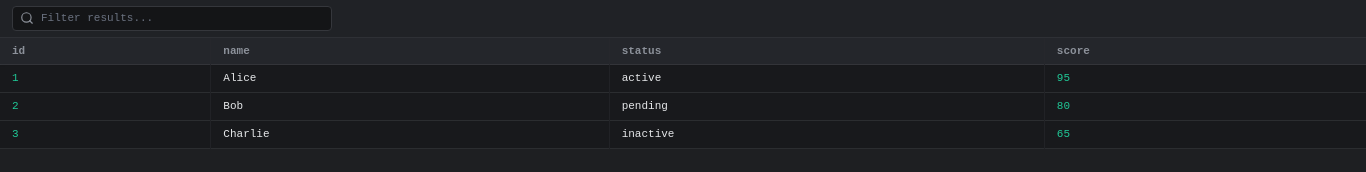
EditableDataGrid component › activates inline input on double click and cancels on Escape
Double-click the text "Alice" at (410, 79), box [211,65,609,93]
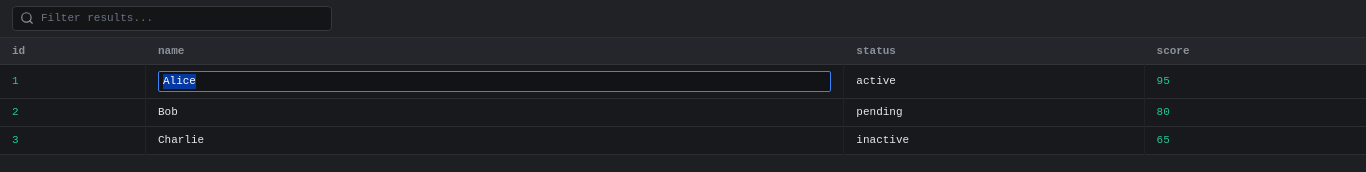
Expected: the field showing "Alice" is shown
Replace the text in the field showing "Alice" with "Alicia" at (495, 82), box [158,71,831,92]
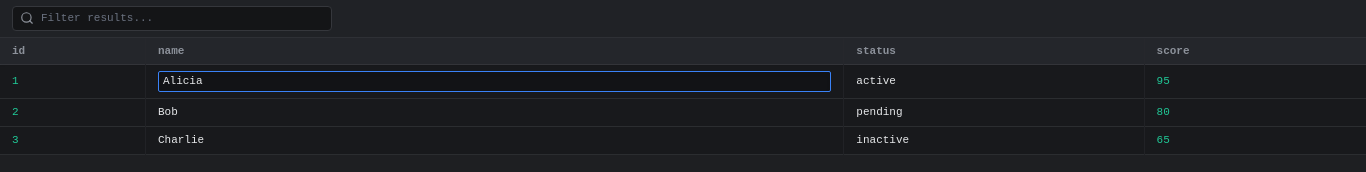
Press Escape in the field showing "Alice", box [158,71,831,92]
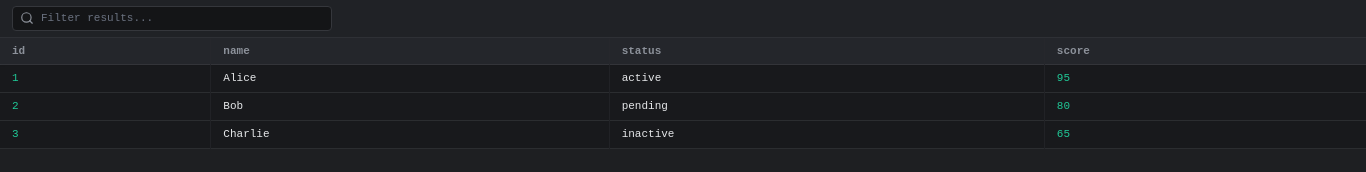
Expected: the text "Alice" is shown, [223,72,256,84]
